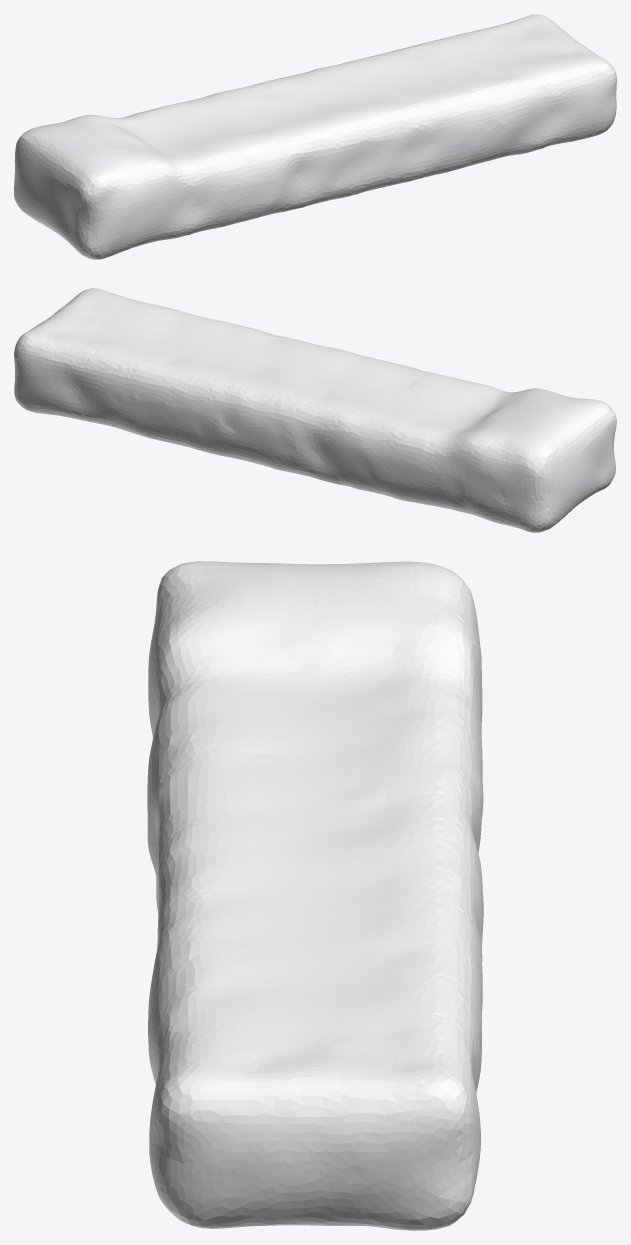
Rendered from base_refined.glb.
The picture shows the model from 3 angles, top to bottom: view 1: azimuth 30°, elevation 25°; view 2: azimuth 150°, elevation 25°; view 3: azimuth 270°, elevation 25°; orthographic projection. The views are drawn at different scales.
Size of the model in its own units: 12.28 by 1.93 by 3.29.
Materials: 1 (1 with a texture image).
